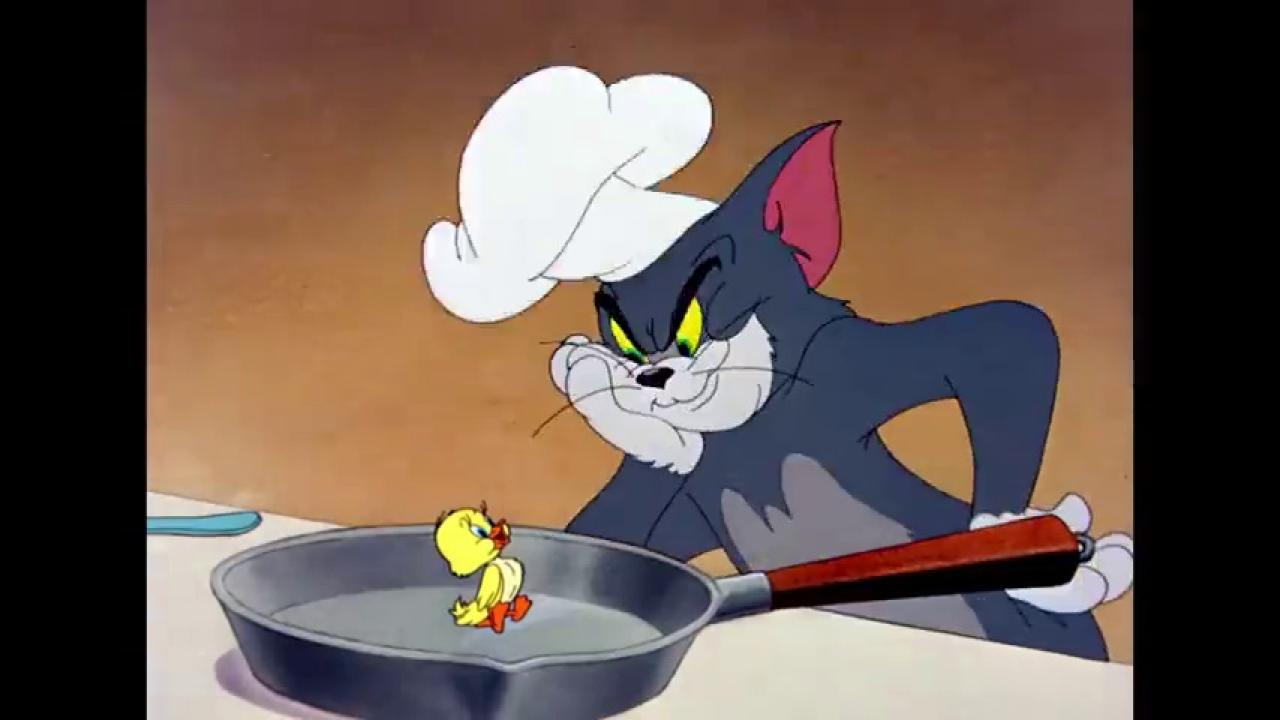Tom: (541, 117, 1133, 665)
